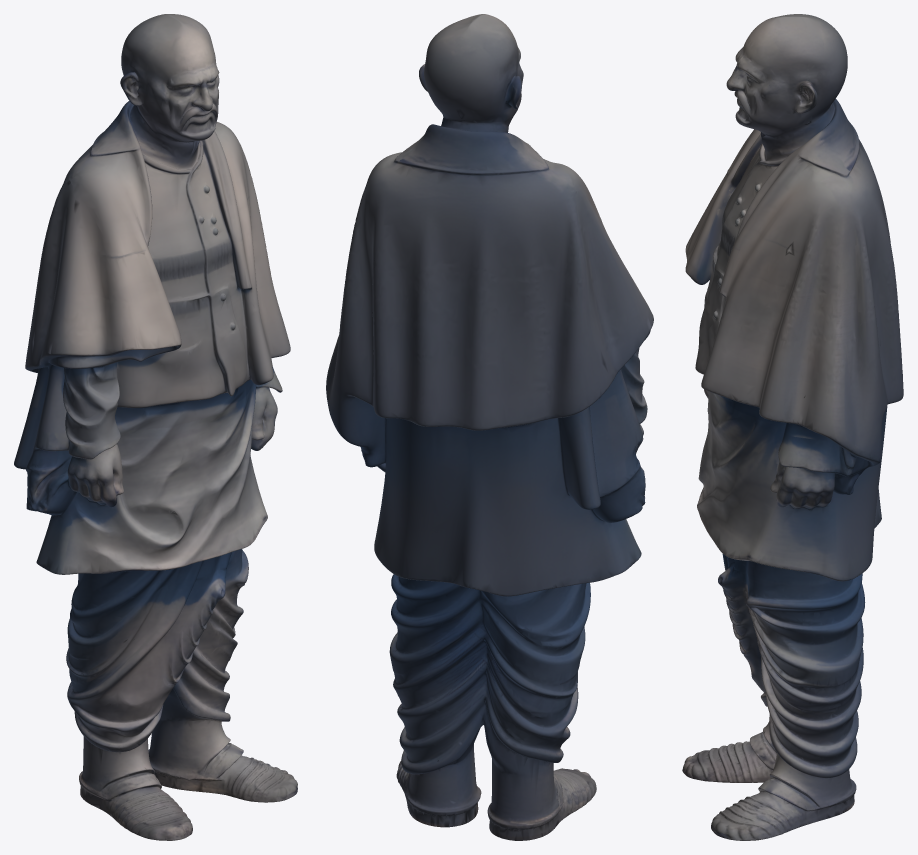
The model's file is statue.glb.
The picture shows the model from 3 angles, left to right: view 1: azimuth 30°, elevation 25°; view 2: azimuth 150°, elevation 25°; view 3: azimuth 270°, elevation 25°; orthographic projection. The views are drawn at different scales.
Parts seen in each view (by area): view 1: node_0; view 2: node_0; view 3: node_0.
Boxes of the visible parts, x1,y1,x2,y2 form: node_0: [14, 14, 297, 840]; node_0: [326, 14, 653, 840]; node_0: [682, 14, 903, 840].
Size of the model in its own units: 0.4291 by 1.14 by 0.2939.
1 material, 1 textured.
